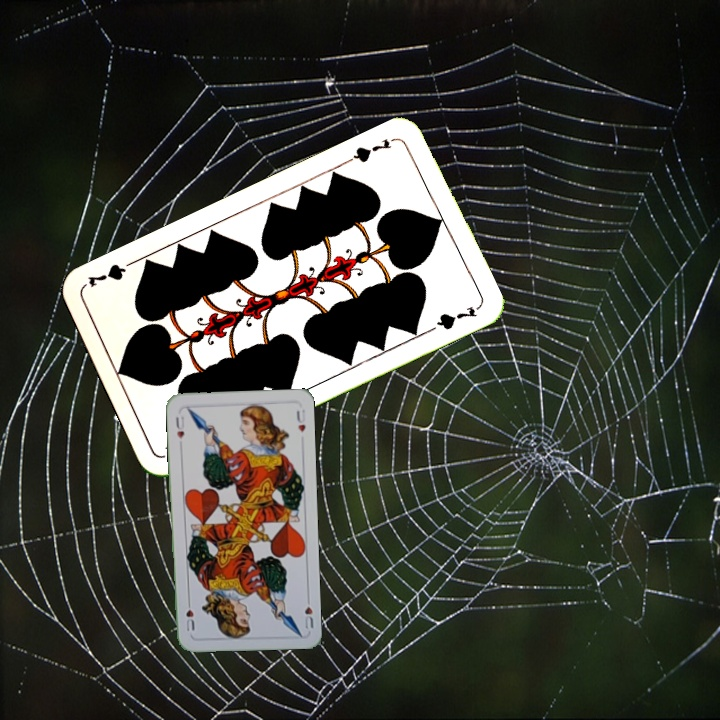G7: (344, 133, 400, 165)
HU: (300, 592, 316, 633), (172, 412, 187, 442)
